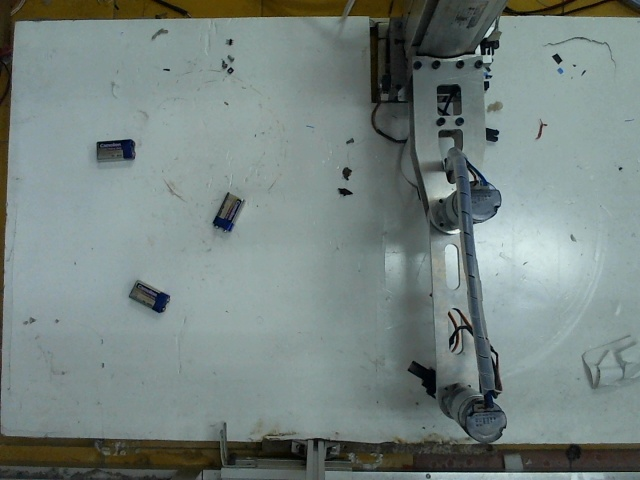battery: (128, 277, 168, 314), (213, 189, 246, 231), (88, 135, 135, 163)
